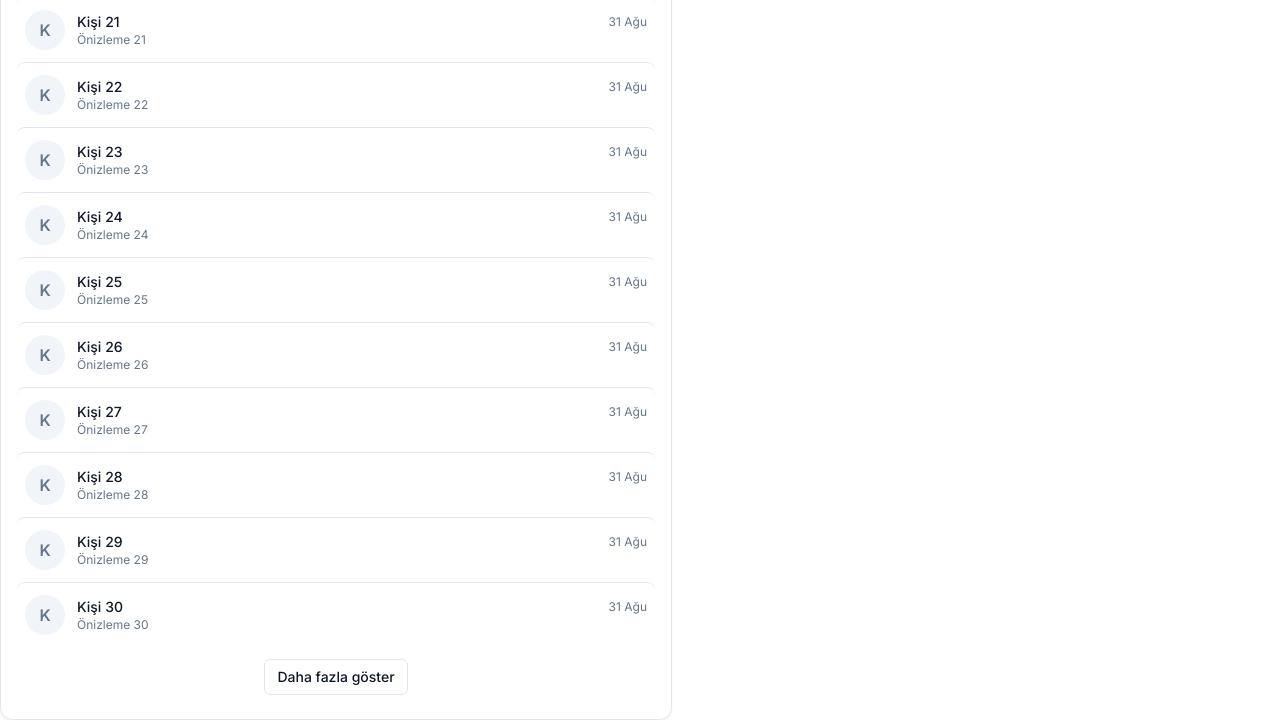
Test: Mesajlar gelen kutusu sayfalama (AJ-83) › toplam 31 iken "Daha fazla göster" görünür; tıklayınca offset=30 istenir ve 31. konuşma listelenir
The width and height of the screenshot is (1280, 720).
(page scrolled)
expect the text "Önizleme 31" is not shown: met
Click the button "Daha fazla göster".
click(336, 677)  # box [264, 659, 408, 695]
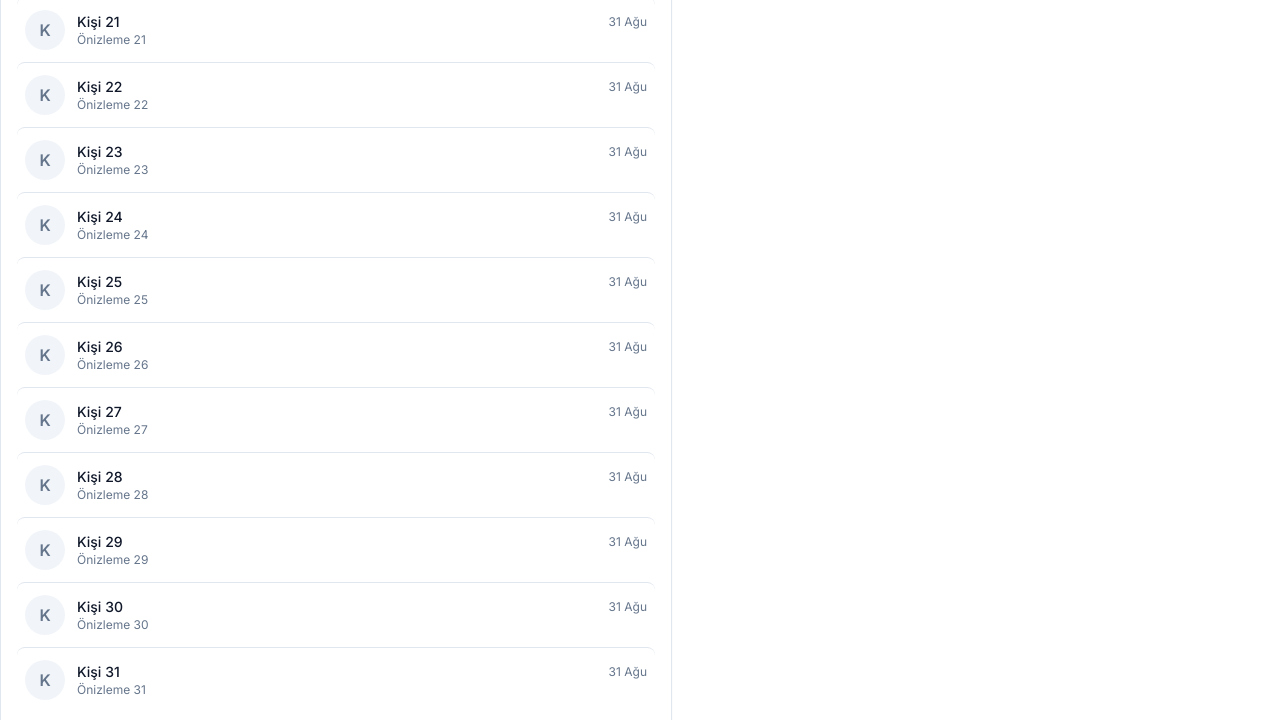
expect the text "Önizleme 31" is shown: met, box [77, 682, 146, 697]
expect the button "Daha fazla göster" is gone: met
